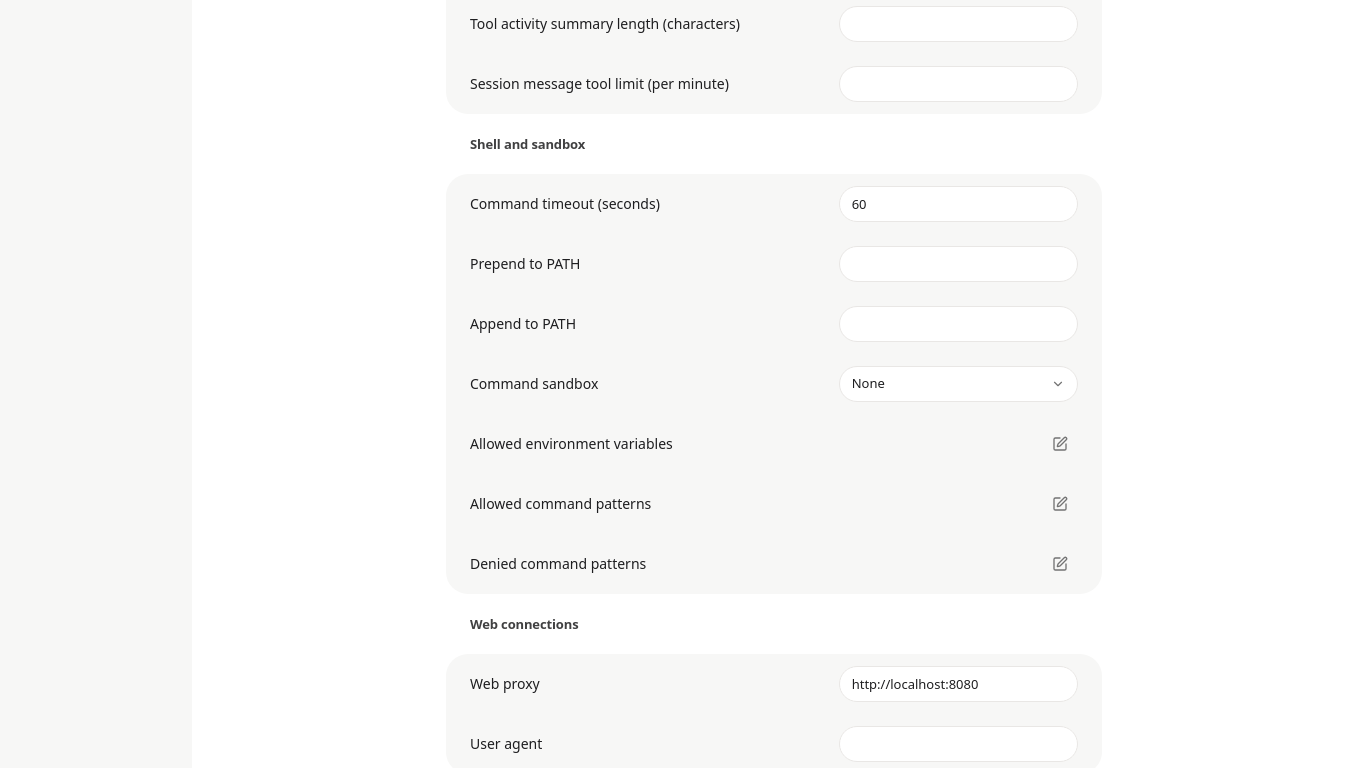
Test: Runtime configuration settings › saves the seatbelt sandbox and reveals its path settings
(page scrolled)
Click the dropdown named "Command sandbox". click: [958, 384]
box: [839,366,1078,402]
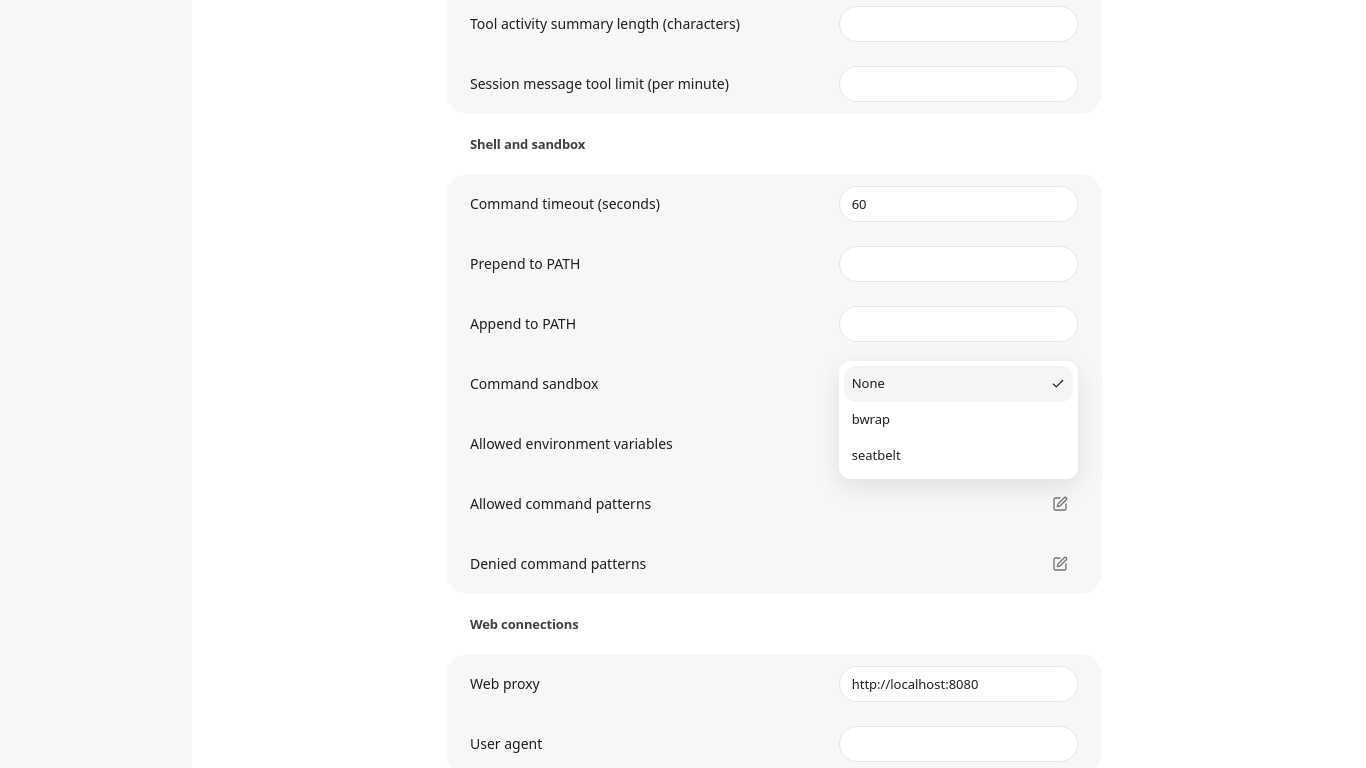
Click the option "seatbelt". click: [876, 455]
box: [852,446,901,464]
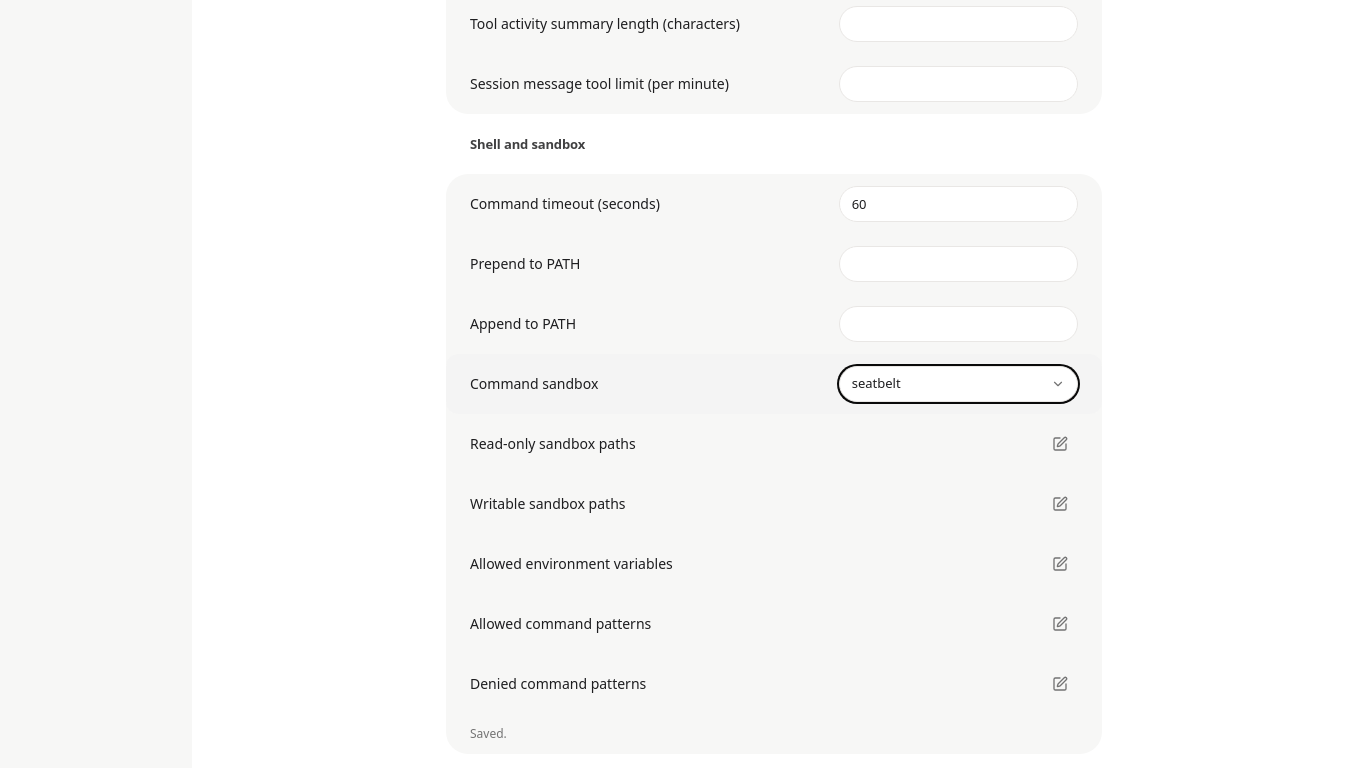
Result: the button with id "runtime-tools" is shown at [1042,426,1078,462]
